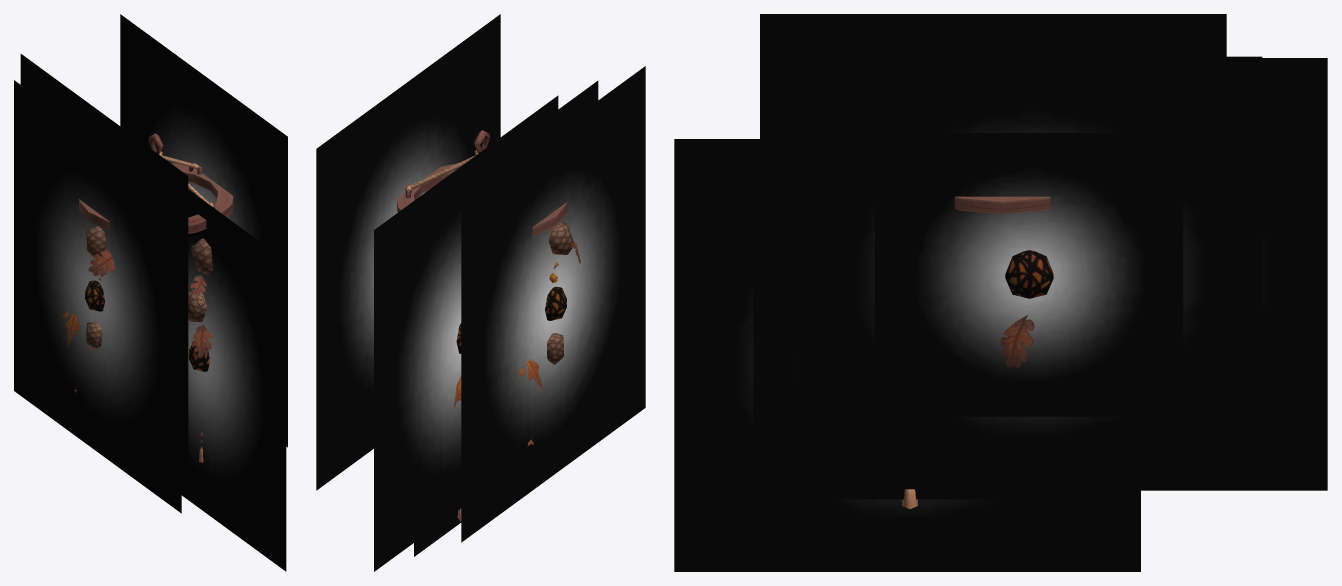
3 renders of one model, left to right at view 1: azimuth 30°, elevation 25°; view 2: azimuth 150°, elevation 25°; view 3: azimuth 270°, elevation 25°, orthographic. The views are drawn at different scales.
Bounding box in the file's own units: 0.8108 × 1.95 × 2.12.
5 materials, 5 textured.
